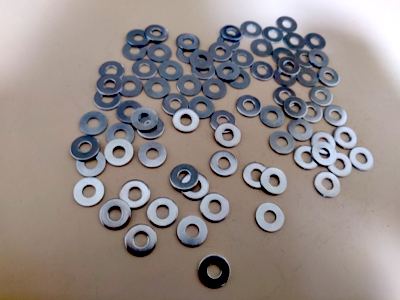circle: (198, 255, 231, 289), (125, 225, 158, 257), (100, 198, 131, 231), (178, 216, 208, 249), (148, 198, 179, 228), (200, 193, 230, 223), (74, 178, 105, 207), (255, 203, 285, 232), (121, 180, 150, 210), (104, 140, 134, 168), (77, 150, 106, 178), (170, 164, 199, 191), (180, 173, 209, 200), (261, 168, 288, 196), (243, 163, 270, 190), (314, 172, 341, 199), (210, 151, 238, 177), (139, 142, 167, 168), (215, 123, 242, 149), (131, 107, 158, 133), (71, 136, 100, 160), (79, 112, 108, 136), (107, 123, 136, 147), (172, 109, 200, 133), (137, 116, 165, 140), (269, 131, 296, 155), (117, 100, 144, 124), (295, 146, 320, 171), (311, 131, 336, 156), (312, 142, 337, 167), (328, 153, 353, 178), (349, 148, 375, 172), (260, 105, 286, 129), (210, 110, 236, 134), (163, 94, 189, 118), (189, 94, 215, 118), (96, 87, 122, 111), (236, 95, 262, 118), (118, 75, 144, 98), (145, 77, 171, 100), (289, 118, 314, 141), (177, 74, 202, 97), (97, 74, 123, 96), (99, 62, 126, 83), (333, 127, 358, 149), (324, 105, 349, 127), (203, 78, 228, 100), (284, 97, 308, 119), (159, 60, 184, 81), (300, 102, 323, 124), (297, 66, 320, 88), (216, 62, 241, 82), (227, 69, 251, 89), (192, 60, 216, 80), (190, 50, 214, 70), (217, 34, 241, 54), (123, 41, 148, 60), (133, 60, 158, 79), (252, 61, 274, 82), (273, 47, 295, 68), (318, 67, 340, 88), (273, 87, 296, 107), (177, 44, 200, 64), (231, 48, 254, 68), (210, 43, 233, 63), (274, 67, 297, 87), (148, 43, 172, 62), (251, 39, 274, 58), (145, 25, 169, 43), (127, 29, 151, 47), (176, 34, 201, 51), (279, 57, 301, 76), (308, 49, 330, 68), (284, 33, 306, 51), (295, 50, 317, 68), (242, 21, 263, 39), (263, 27, 284, 44), (277, 16, 298, 33), (305, 33, 326, 50), (221, 25, 243, 41)
